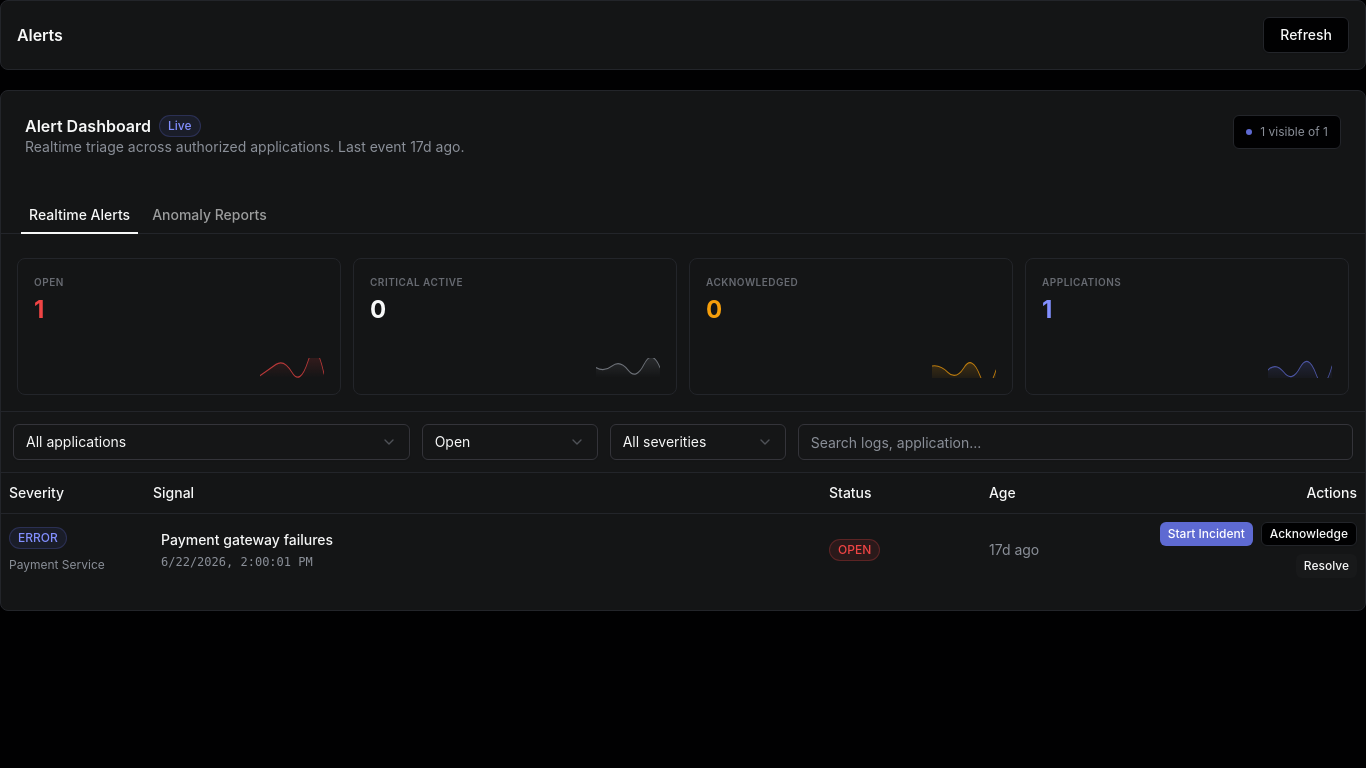
Test case: AlertsPage › filters alerts by status
Click the dropdown named "Filter alert status".
click(510, 442)  # box [422,424,598,460]
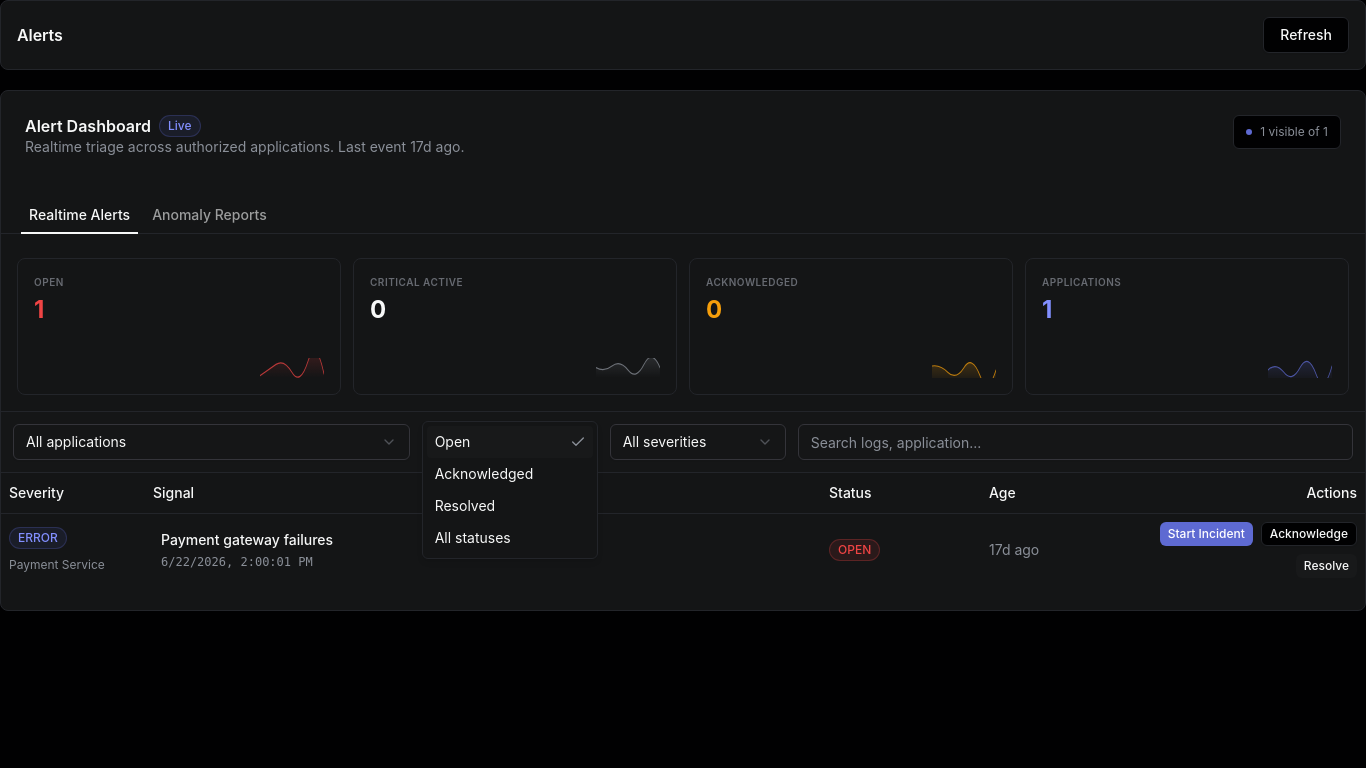
Click the option "Resolved".
click(465, 506)  # box [435,497,495,514]
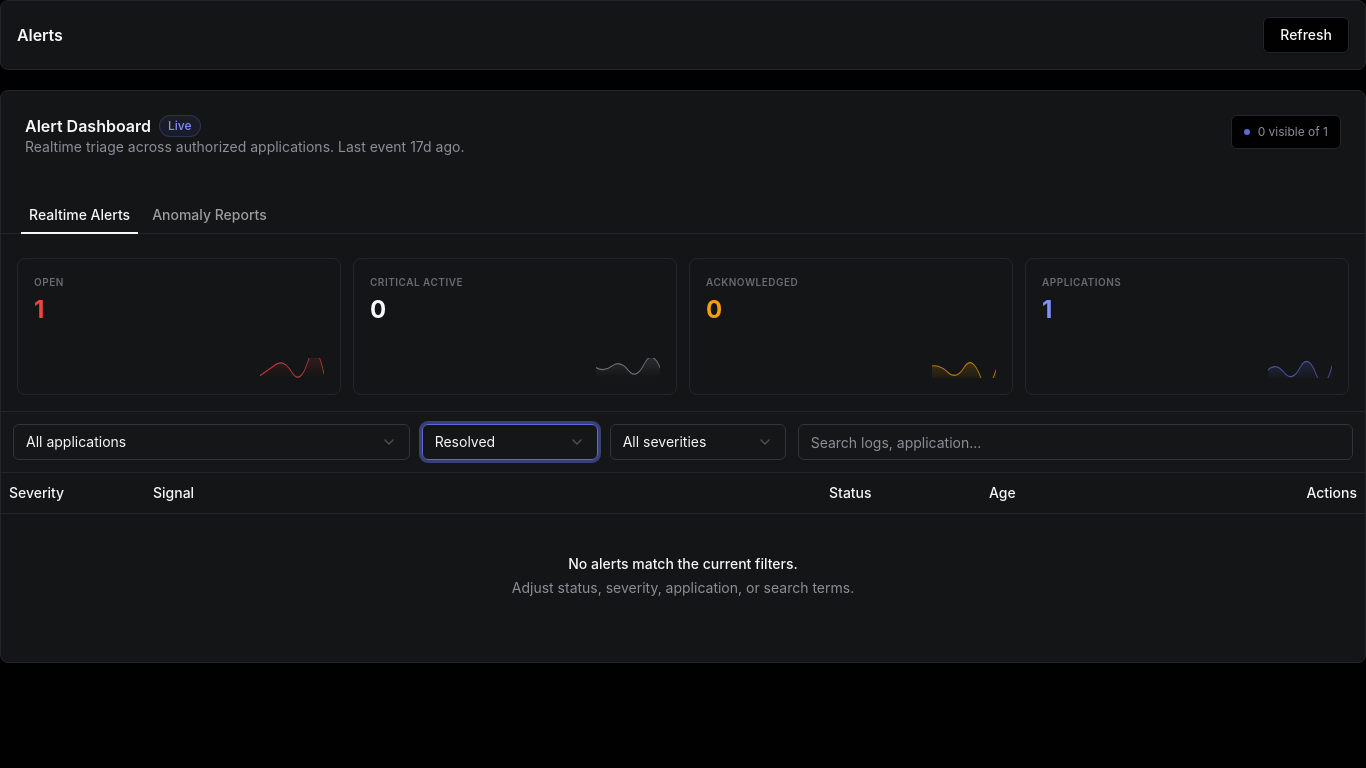
Check: the text "No alerts match the current filters." is shown, box [568,554,798,572]
